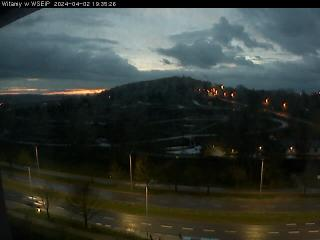car: (23, 195, 45, 207)
